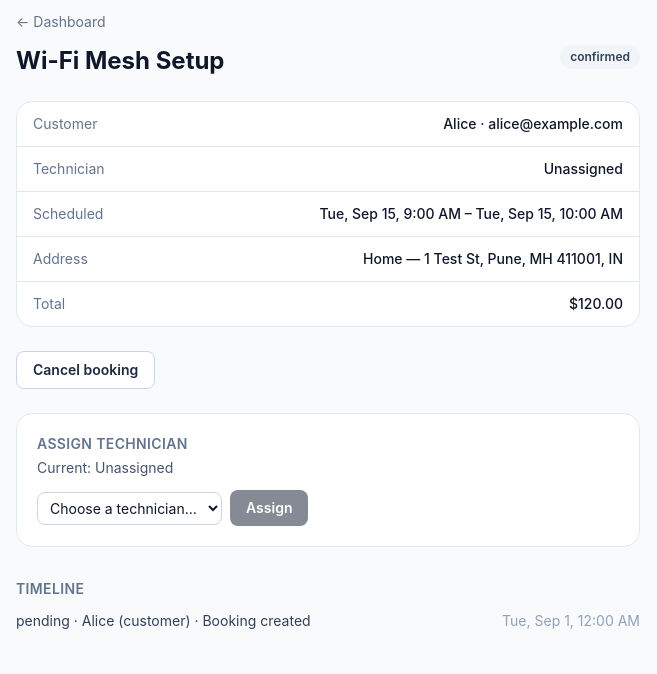
Test: OperationsBookingDetailPage › surfaces an assignment conflict
Check: the heading "Wi-Fi Mesh Setup" is shown, box top-left (16, 45), bottom-right (224, 77)
Select "Tara Bolt" in the dropdown named "technician" at (130, 508), box top-left (37, 492), bottom-right (222, 524)
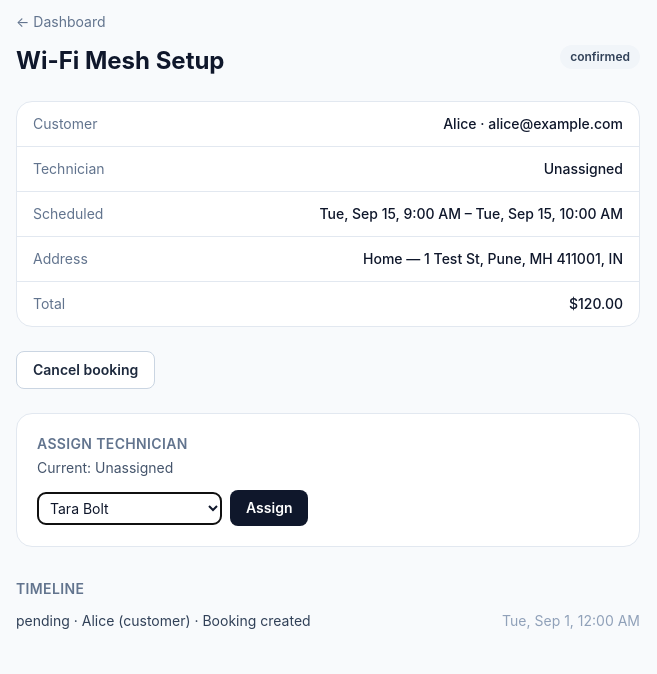
Click the button "Assign" at (269, 508), box top-left (230, 490), bottom-right (308, 526)
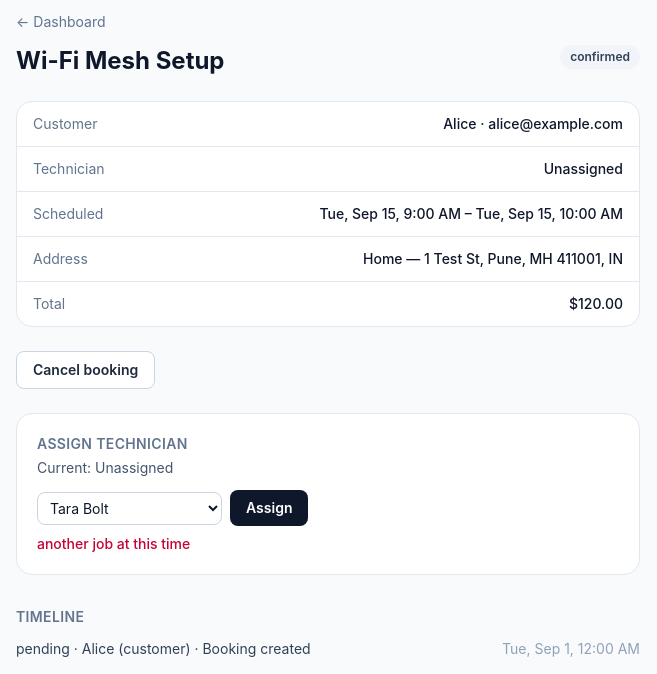
Check: the message reads "another job at this time", box top-left (37, 535), bottom-right (190, 552)
